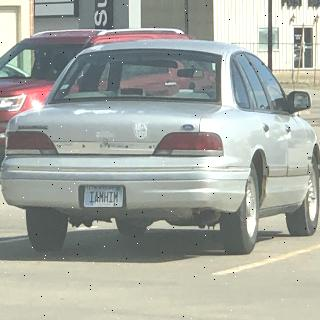license: (84, 185, 125, 209)
